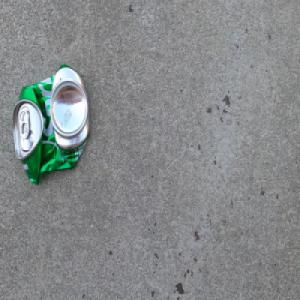SodaCan: (13, 62, 91, 186)
